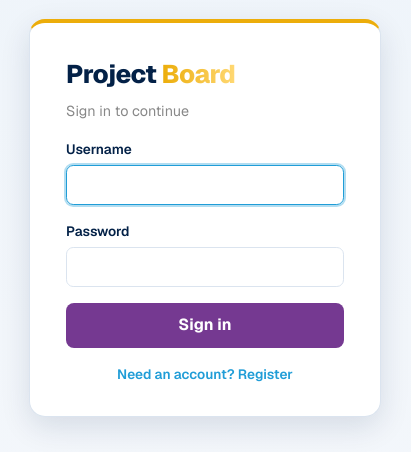
Test: LoginForm › switches back to login mode
Click the button "Need an account? Register".
click(205, 374)  # box [66,364,344,384]
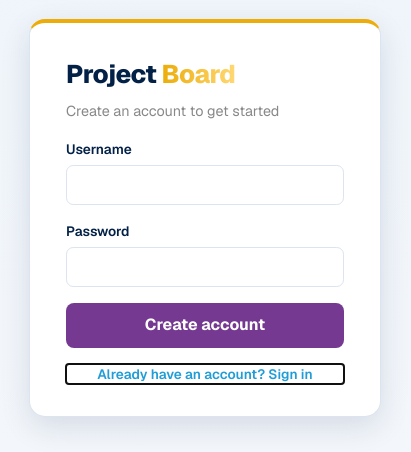
Click the button "Already have an account? Sign in".
click(205, 374)  # box [66,364,344,384]
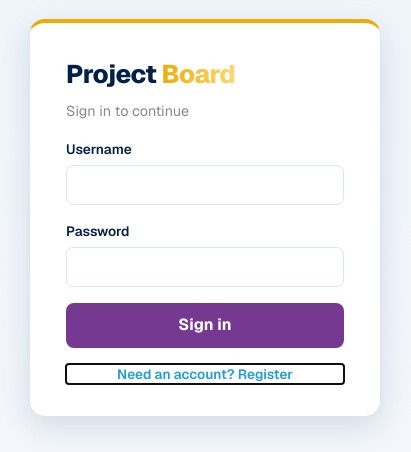
Now the button "Sign in" is shown, box [66,303,344,348]
